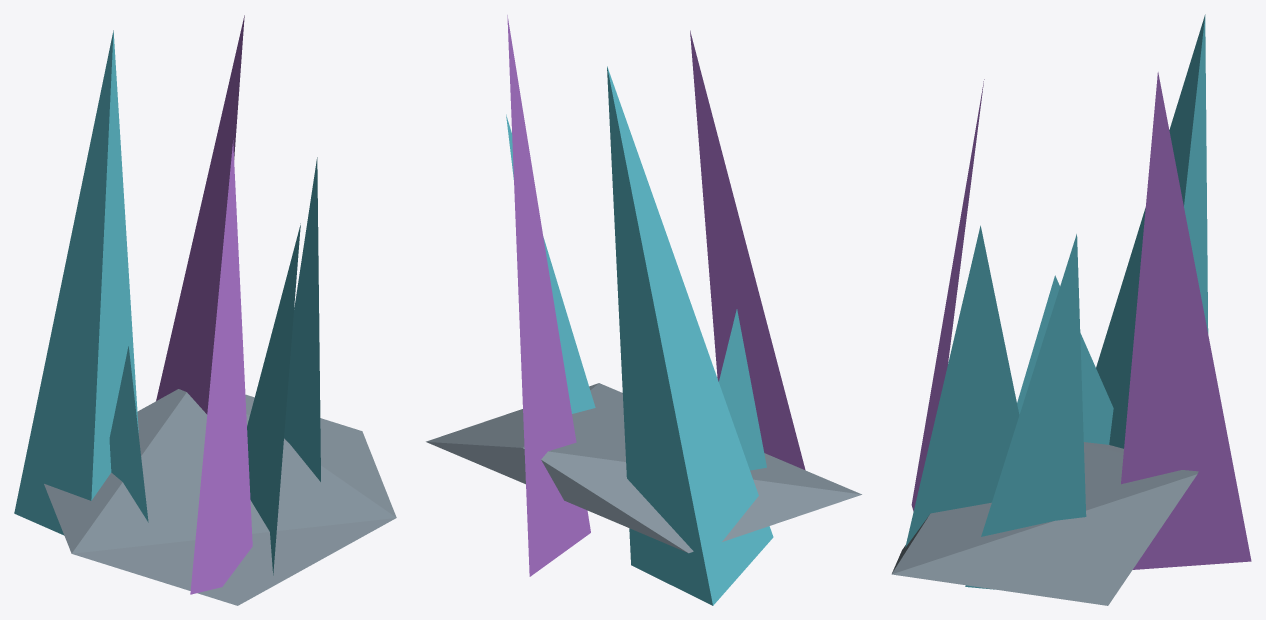
The model's file is Crystal_02_LOD2.fbx.
3 renders of one model, left to right at view 1: azimuth 30°, elevation 25°; view 2: azimuth 150°, elevation 25°; view 3: azimuth 270°, elevation 25°, orthographic. The views are drawn at different scales.
Parts seen in each view (by area): view 1: Crystal_02_LOD2; view 2: Crystal_02_LOD2; view 3: Crystal_02_LOD2.
Boxes of the visible parts, bbox=[...] form: Crystal_02_LOD2: bbox=[14, 15, 396, 605]; Crystal_02_LOD2: bbox=[426, 15, 861, 605]; Crystal_02_LOD2: bbox=[891, 14, 1251, 605].
Bounding box in the file's own units: 165 × 221 × 132.
